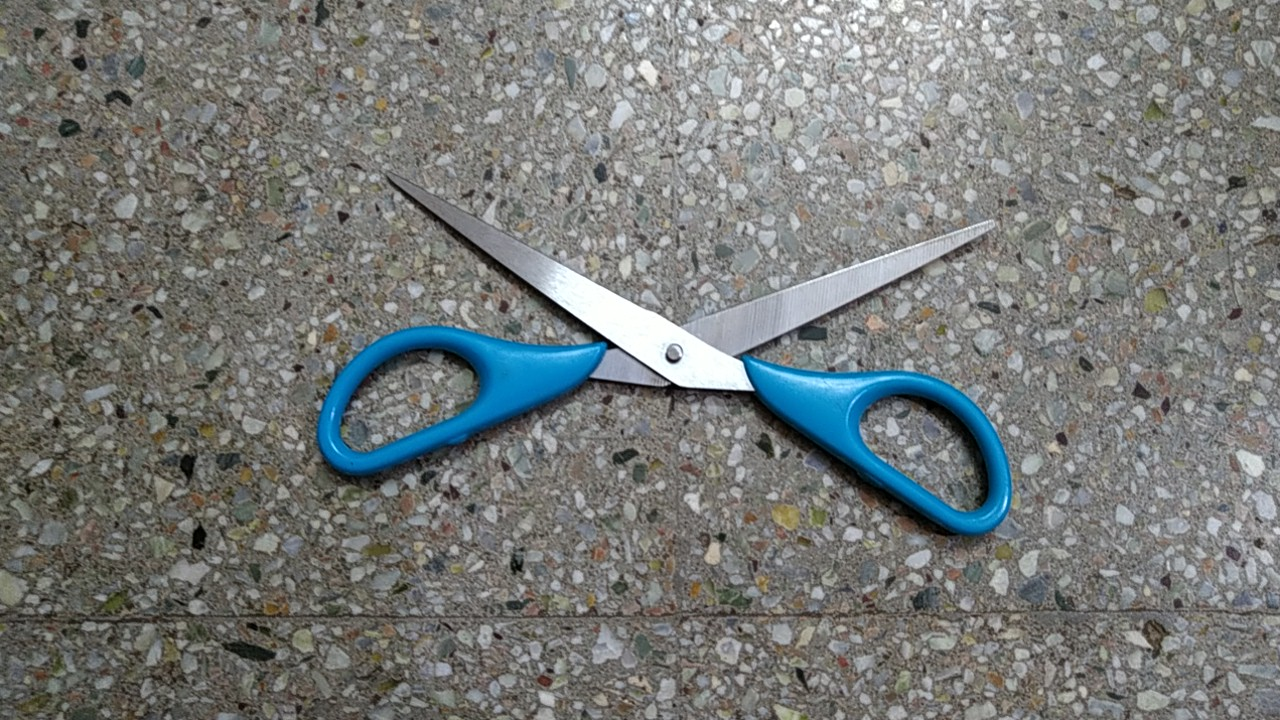scissor: (305, 158, 1046, 562)
